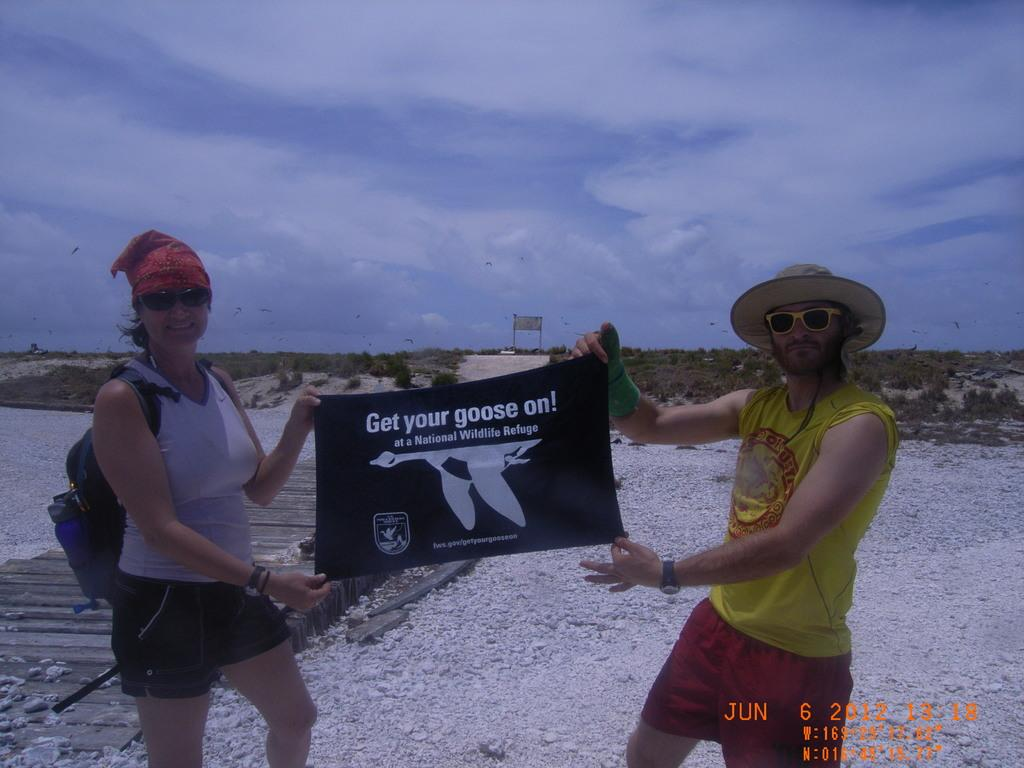Hat: (729, 258, 888, 442)
